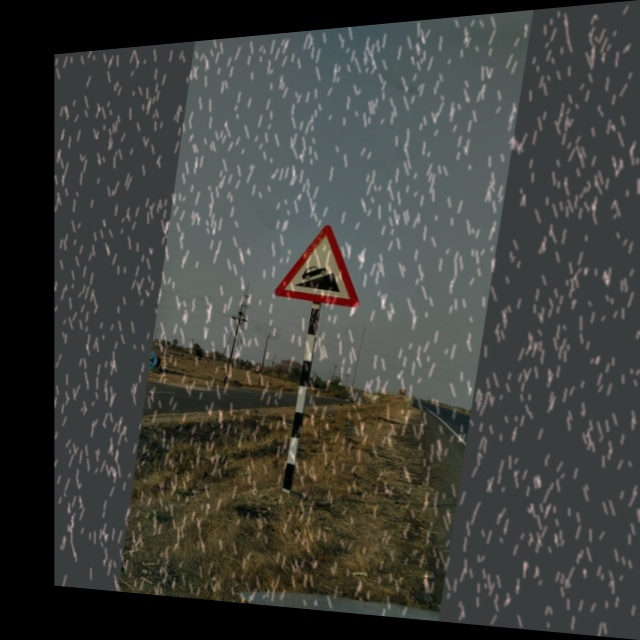Steep_Ascent: (265, 213, 376, 312)
